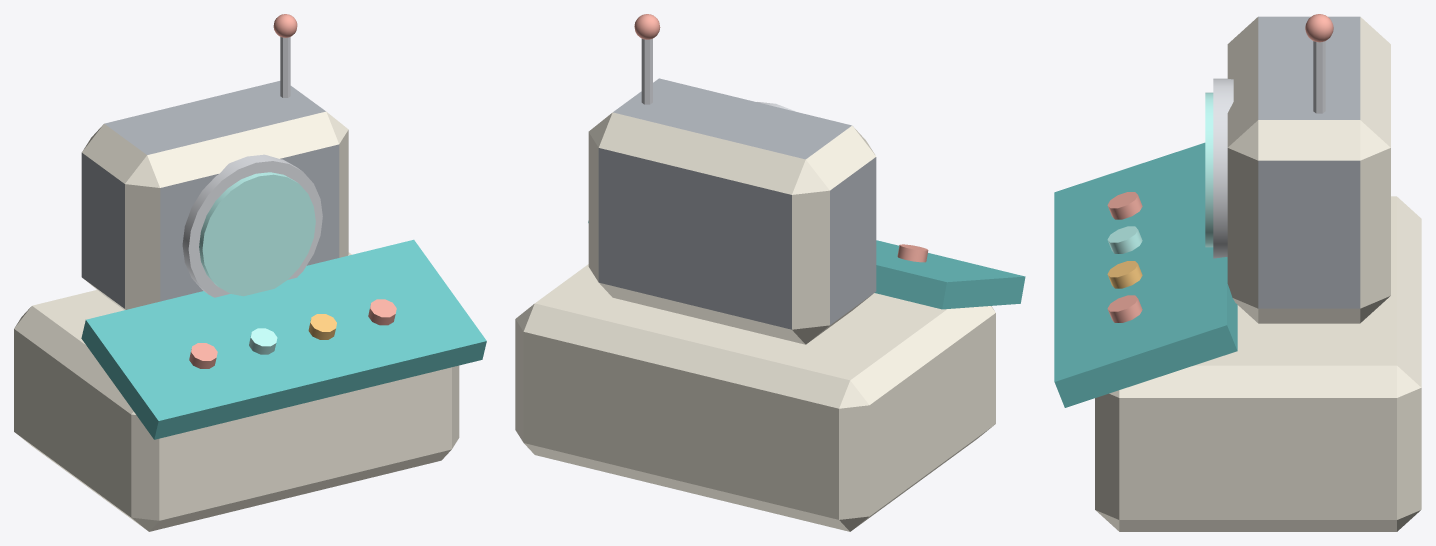
Rendered from ic_terminal.glb.
The picture shows the model from 3 angles, left to right: view 1: azimuth 30°, elevation 25°; view 2: azimuth 150°, elevation 25°; view 3: azimuth 270°, elevation 25°; orthographic projection. The views are drawn at different scales.
Parts seen in each view (by area): view 1: ic_terminal; view 2: ic_terminal; view 3: ic_terminal.
Part boxes in pixels (x1,y1,x2,y2): ic_terminal: (14,14,486,531); ic_terminal: (515,14,1025,531); ic_terminal: (1054,14,1421,531).
Bounding box in the file's own units: 2.2 × 2.57 × 1.8.
